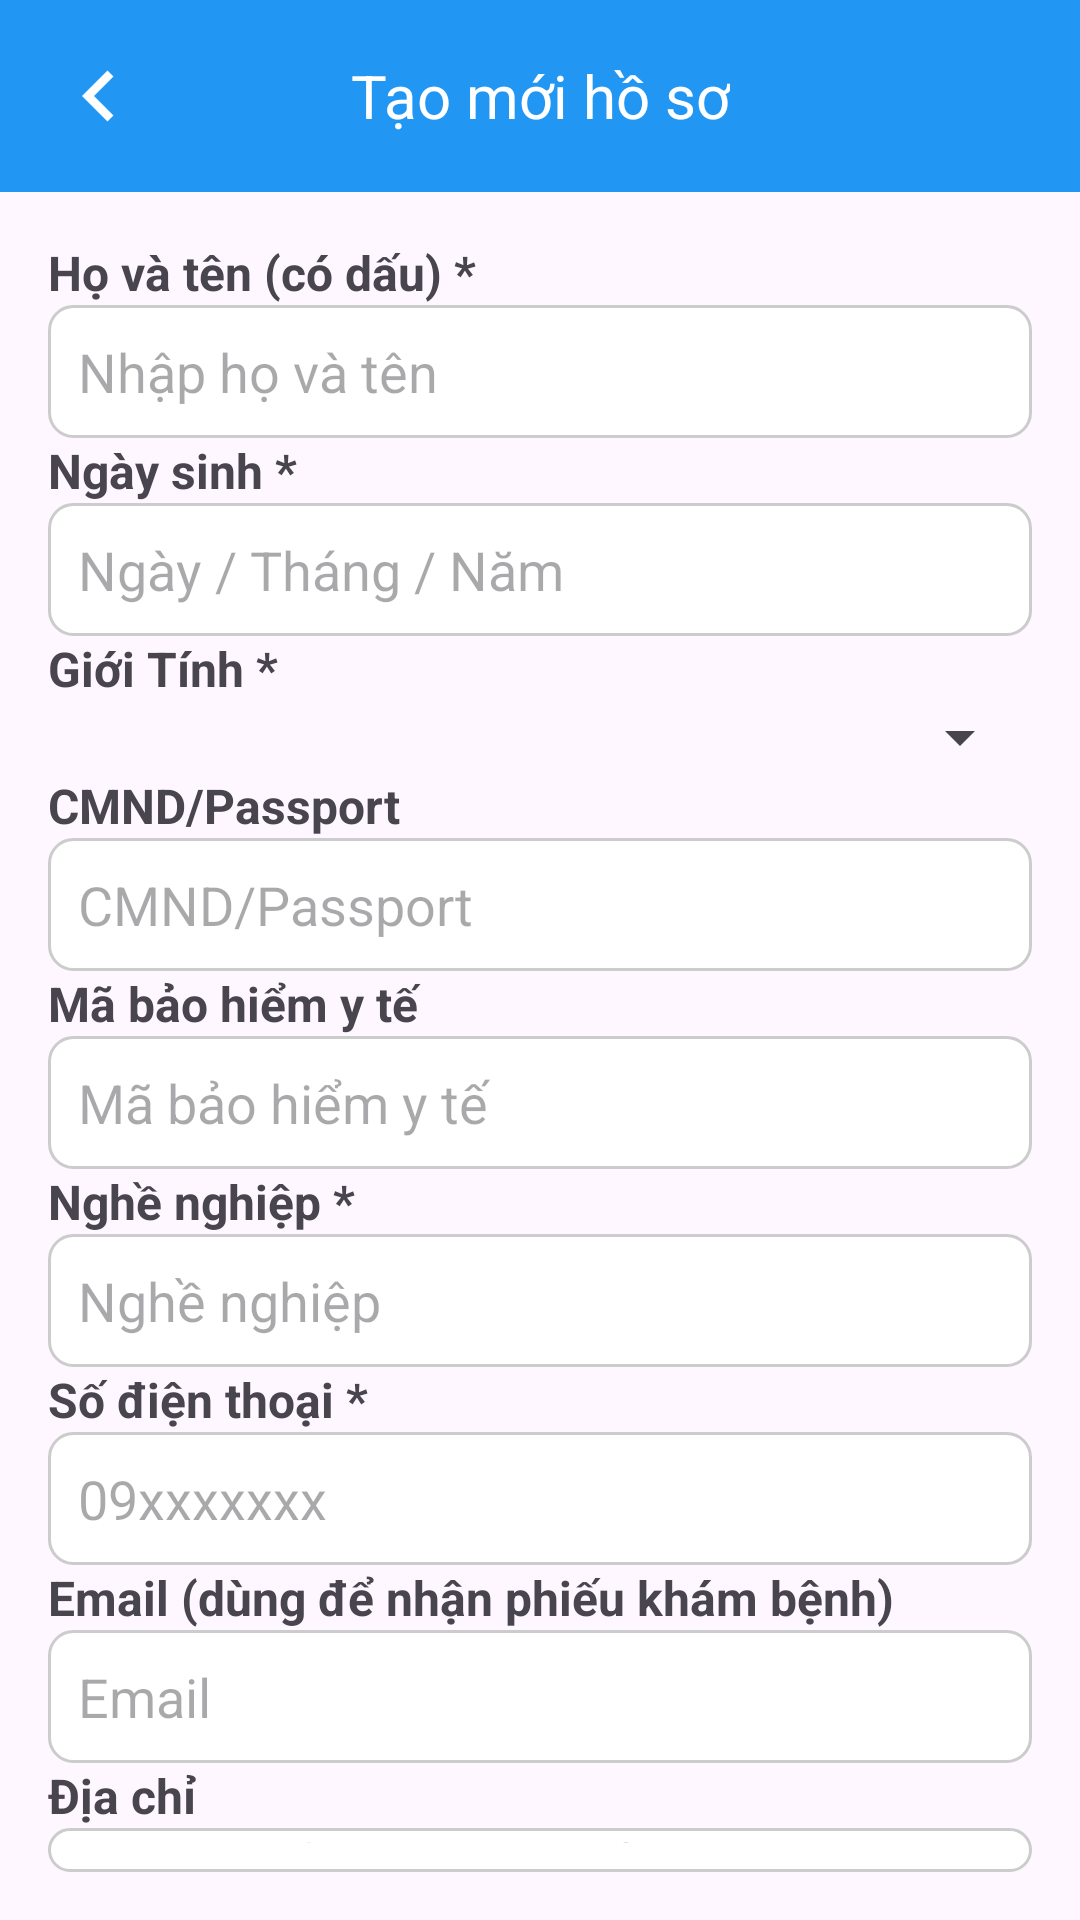

Where icons sit on this 1080w x 1920h app screen, as (x1, y1, x2, y2):
Quay lại: (82, 70, 114, 122)
